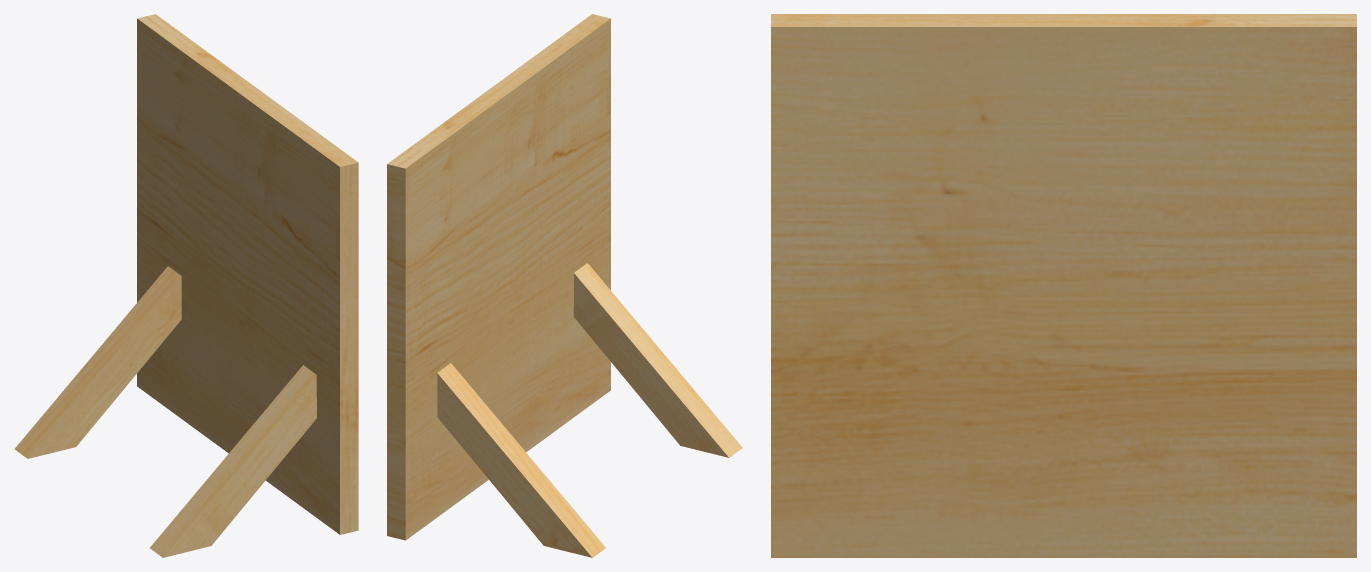
Rendered from default_cutout.fbx.
3 views of the same model, side by side, from view 1: azimuth 30°, elevation 25°; view 2: azimuth 150°, elevation 25°; view 3: azimuth 270°, elevation 25° (orthographic). The views are drawn at different scales.
Visible parts, largest first — view 1: Cube; view 2: Cube; view 3: Cube.
Part boxes in pixels (x1=…): Cube: x1=14, y1=14, x2=358, y2=557; Cube: x1=387, y1=14, x2=742, y2=557; Cube: x1=771, y1=14, x2=1356, y2=557.
Bounding box in the file's own units: 0.9805 × 2.01 × 2.
